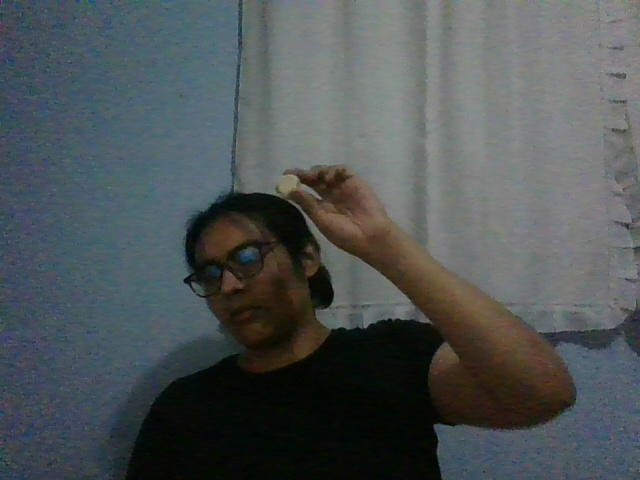goma: (275, 174, 300, 198)
